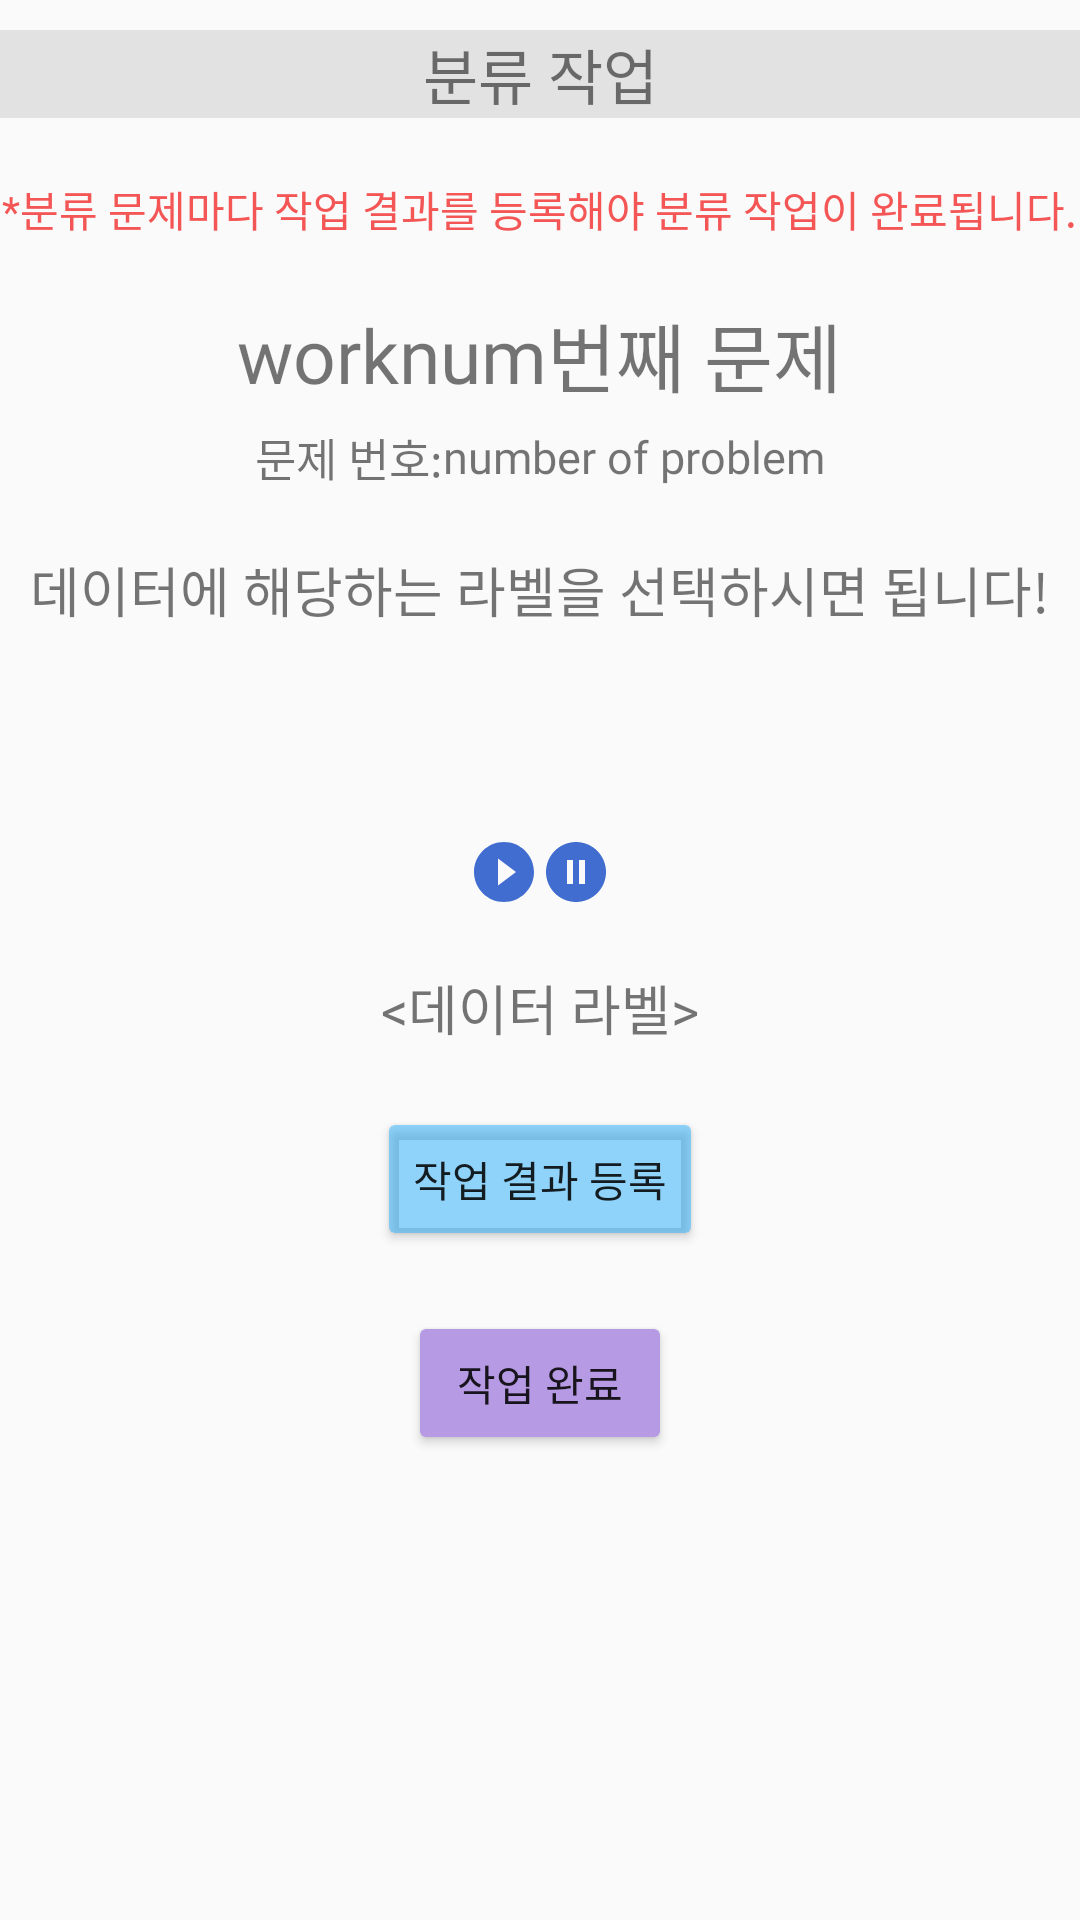

Icons on this 1080*1920 Android screen, each with its box as bbox(x1, y1, x2, y2):
pause: bbox(546, 842, 606, 902)
play: bbox(474, 842, 534, 902)
